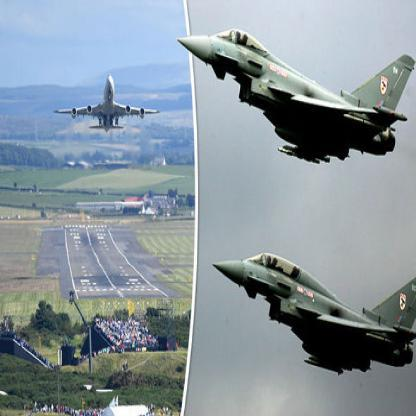CIV_Plane: (46, 68, 162, 143)
